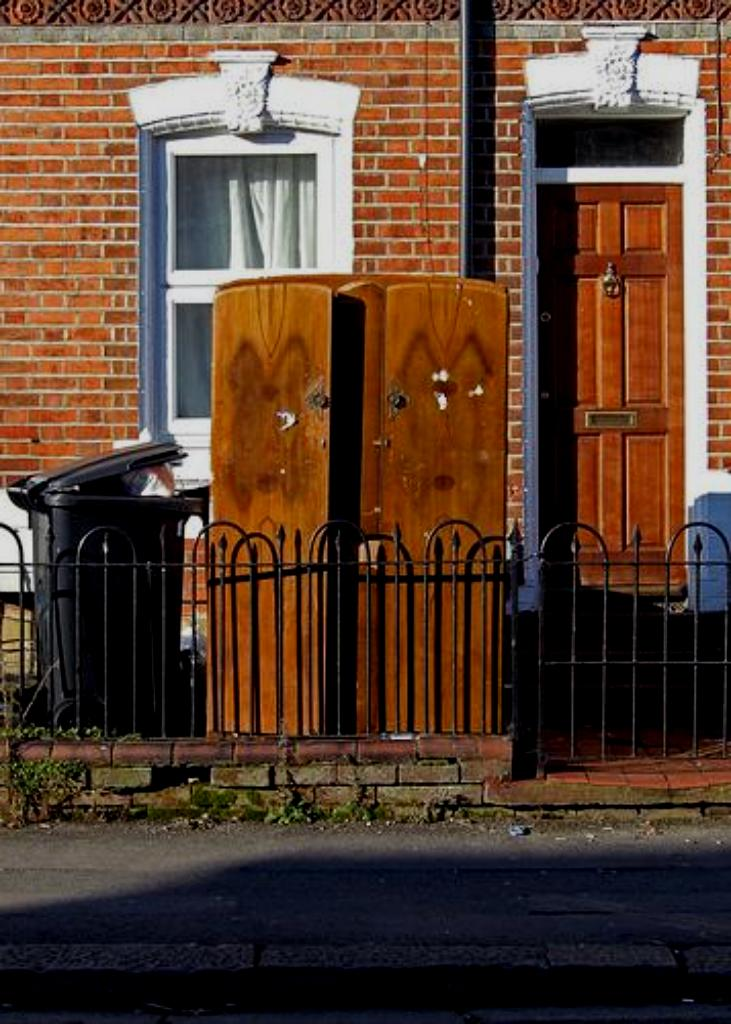dustbin: (11, 429, 200, 718)
